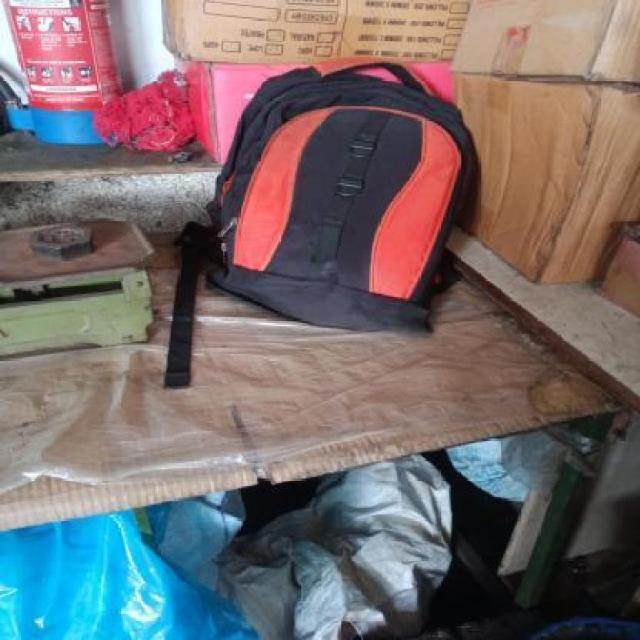backpack: (200, 57, 483, 341)
